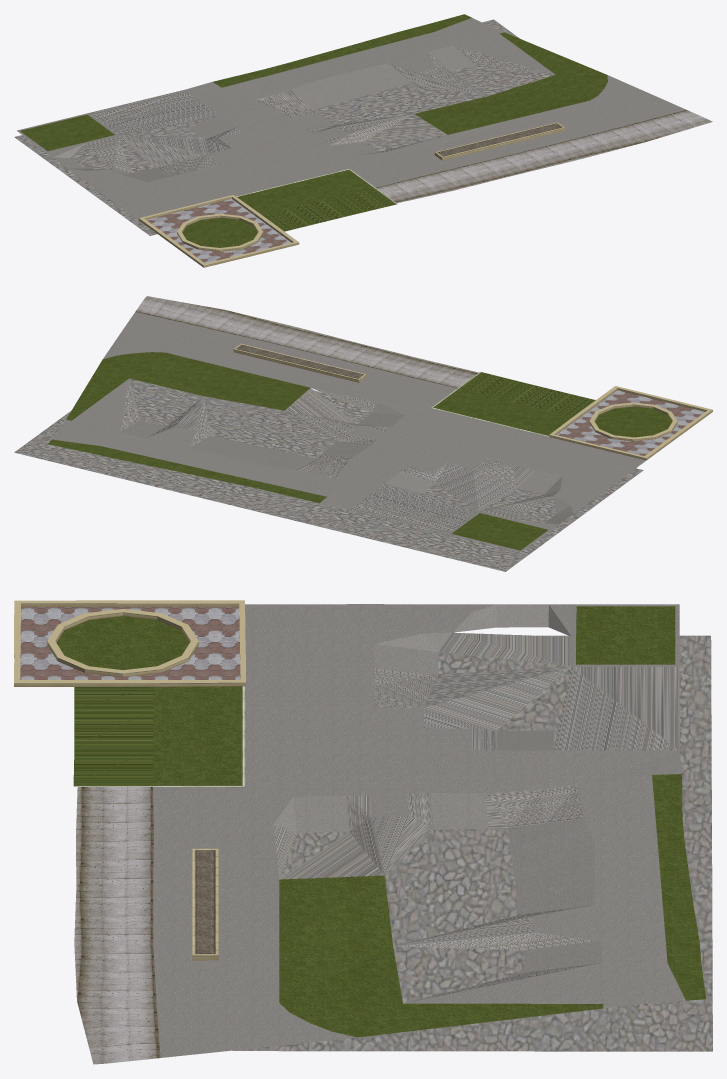
Rendered from law_vengrnd.obj.
3 renders of one model, top to bottom at view 1: azimuth 30°, elevation 25°; view 2: azimuth 150°, elevation 25°; view 3: azimuth 270°, elevation 25°, orthographic. The views are drawn at different scales.
Visible parts, largest first — view 1: law_vengrnd; view 2: law_vengrnd; view 3: law_vengrnd.
Boxes of the visible parts, bbox=[...] form: law_vengrnd: bbox=[14, 14, 712, 267]; law_vengrnd: bbox=[14, 296, 712, 571]; law_vengrnd: bbox=[14, 600, 712, 1064].
Bounding box in the file's own units: 122 × 3.85 × 78.33.
